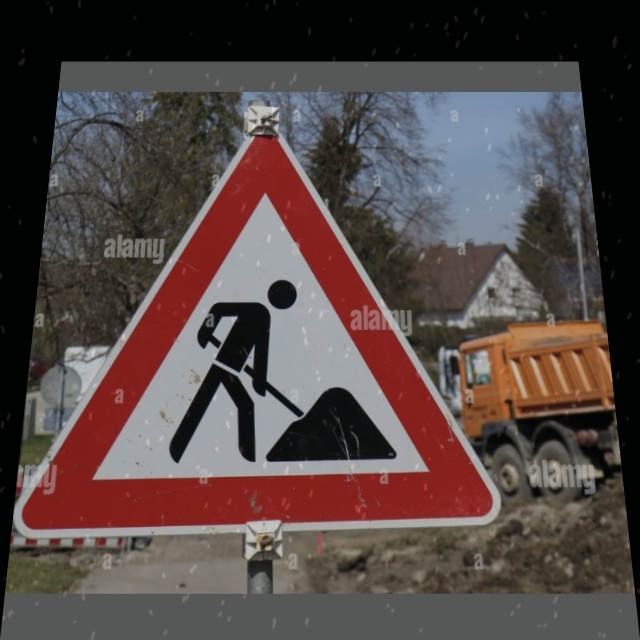Men_at_Work: (79, 141, 470, 514)
